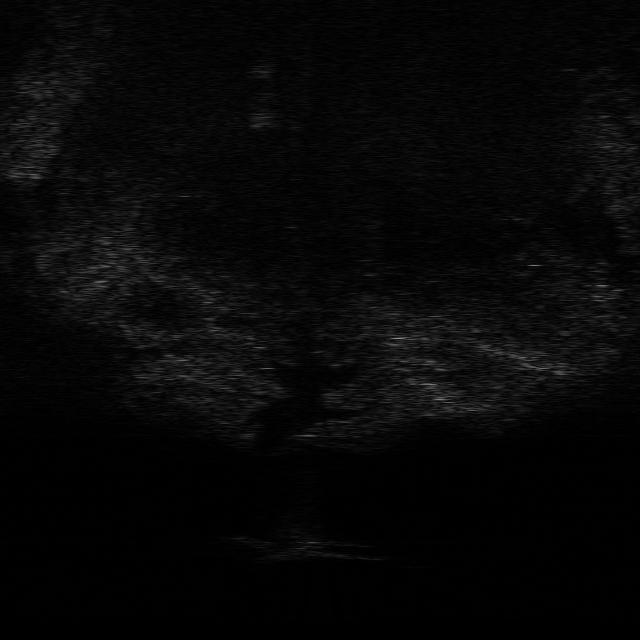plane: (232, 533, 388, 563)
